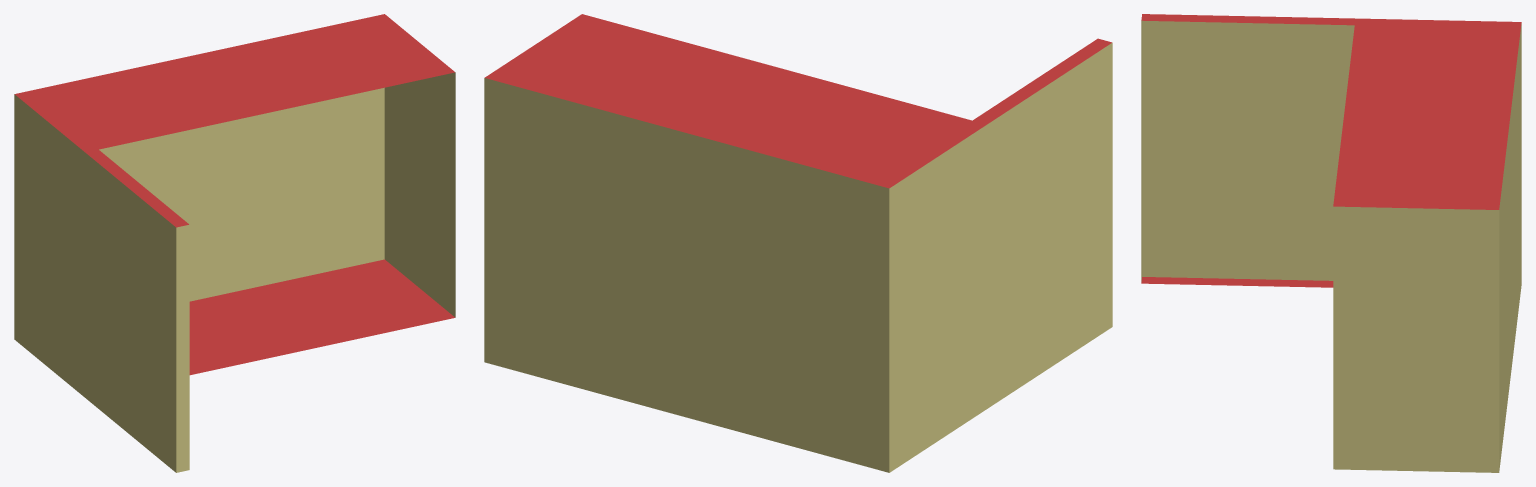
3 renders of one model, left to right at view 1: azimuth 30°, elevation 25°; view 2: azimuth 150°, elevation 25°; view 3: azimuth 270°, elevation 25°, orthographic. The views are drawn at different scales.
Bounding box in the file's own units: 7.18 × 5.89 × 4.49.
